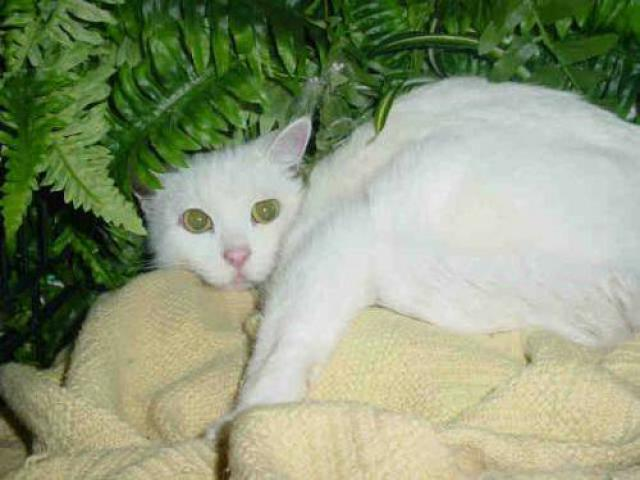cat: (100, 77, 633, 449)
